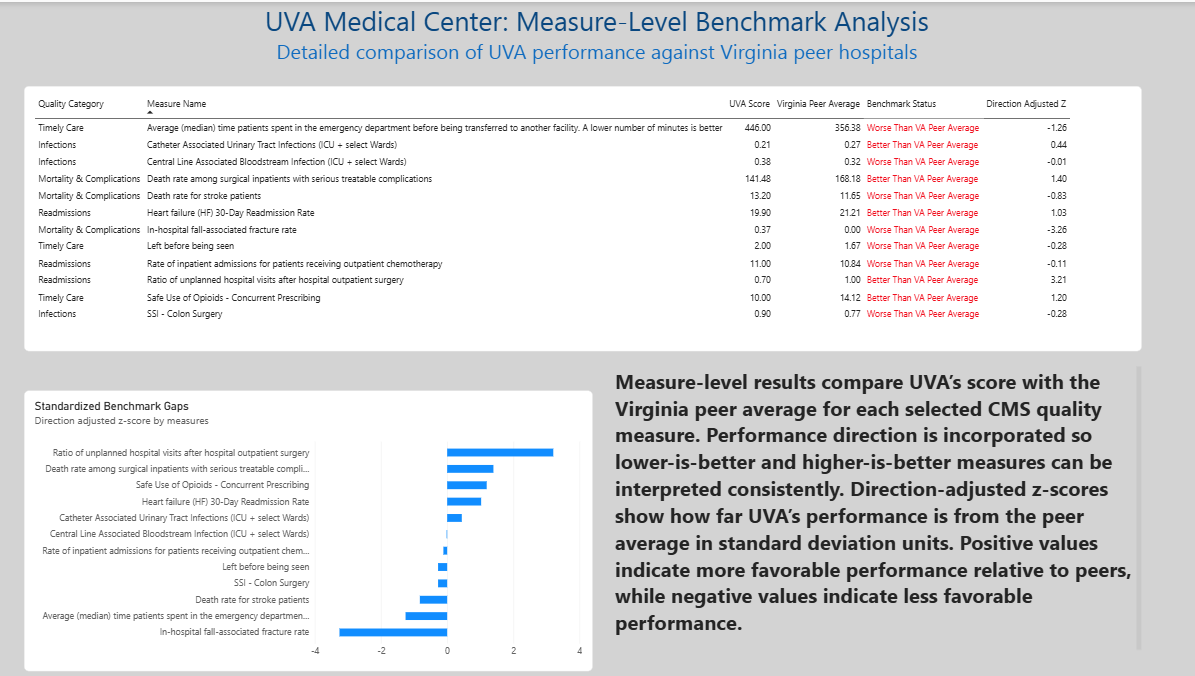

This screenshot's page, from the dashboard's own definition file:
{"tool":"powerbi","page":{"name":"UVA Medical Center: Measure-Level Benchmark Analysis","canvas":[1920,1080],"ordinal":1},"visuals":[{"type":"tableEx","fields":{"Values":["Hospital Quality.Quality Category","Hospital Quality.Measure Name","uva_complete_benchmark.UVA Score","Hospital Quality.Virginia Peer Average","uva_complete_benchmark.Benchmark Status","uva_complete_benchmark.Direction Adjusted Z"]},"box":[48.8,134.1,1778,422],"z":0},{"type":"clusteredBarChart","title":"Standardized Benchmark Gaps","fields":{"Category":["uva_complete_benchmark.Measure Name"],"Y":["Max(uva_complete_benchmark.Direction Adjusted Z)"]},"box":[48.8,617.1,904.9,446.3],"z":1000},{"type":"textbox","box":[34.1,0,1851.2,112.2],"z":2000},{"type":"textbox","box":[987.8,579.8,837.5,501],"z":3000}]}

Visuals, with their boxes in screenshot pixels (x1, y1, x2, y2), scaled from the page's 1920x1080 canvas onto the 1195x676 screenshot:
tableEx - Hospital Quality.Quality Category x Hospital Quality.Measure Name: select_region(30, 84, 1137, 348)
"Standardized Benchmark Gaps" clusteredBarChart: select_region(30, 386, 594, 666)
textbox: select_region(21, 0, 1173, 70)
textbox: select_region(615, 363, 1136, 675)
